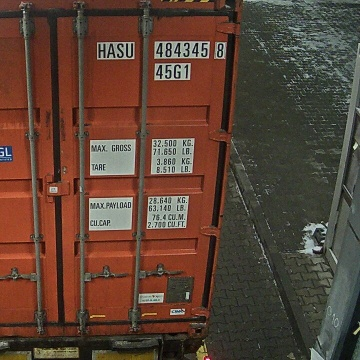serial_id: (98, 42, 224, 58)
